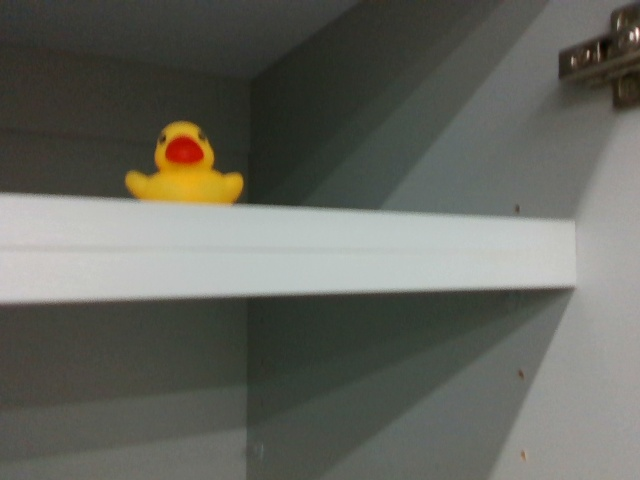duck: (121, 119, 245, 204)
